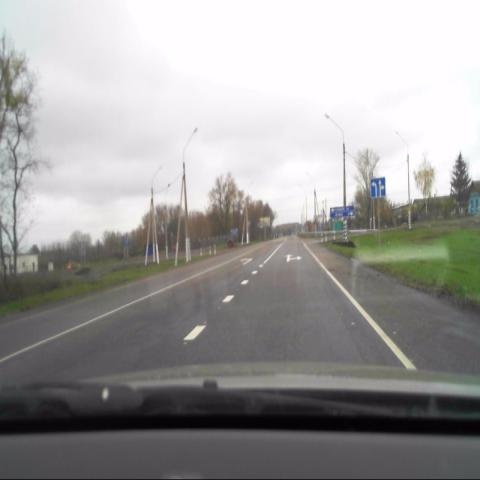5_15_2_2: (371, 178, 385, 196)
